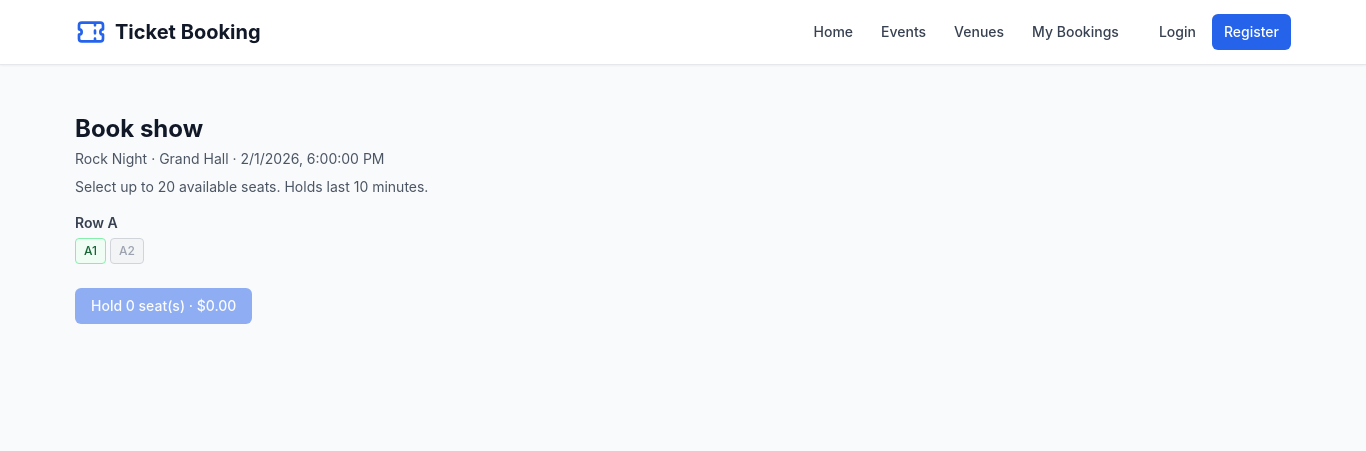
booking pages › holds seats from the book page with physical seat ids
Click the button named "Seat A1".
click(90, 251)  # box [75,238,106,264]
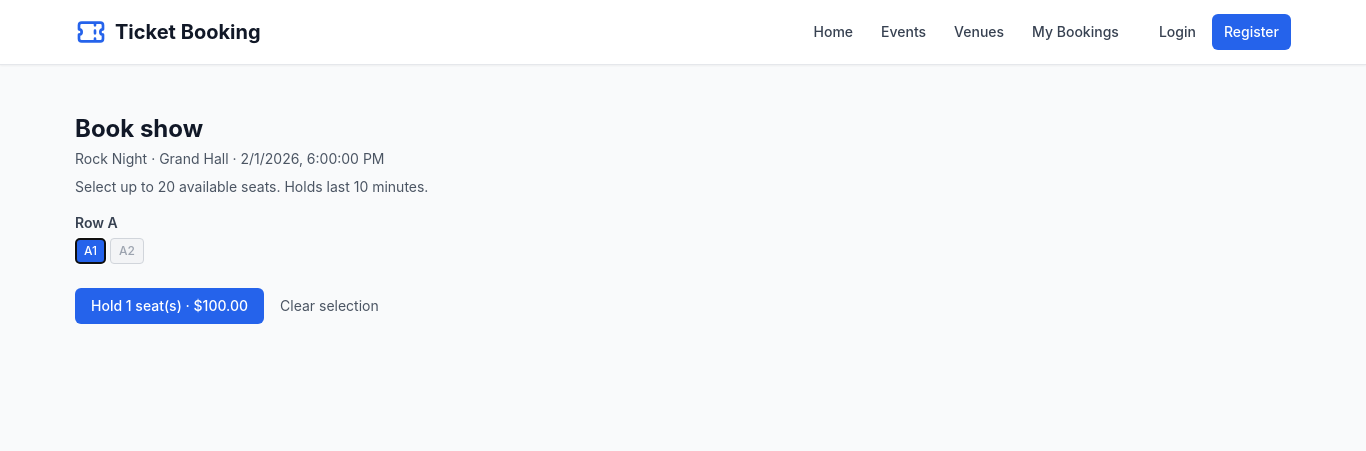
Click the button "Hold 1 seat(s) · $100.00".
click(170, 306)  # box [75,288,264,324]
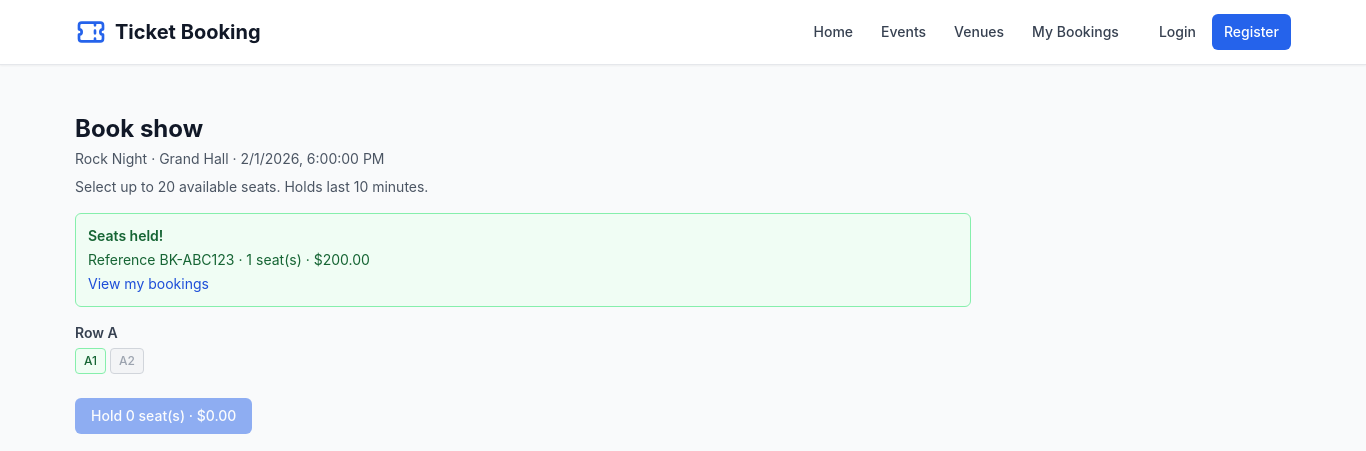
Result: the text "Seats held!" is shown at [88,227,163,244]
Result: the text "Reference BK-ABC123 · 1 seat(s) · $200.00" is shown at [88,251,370,268]
